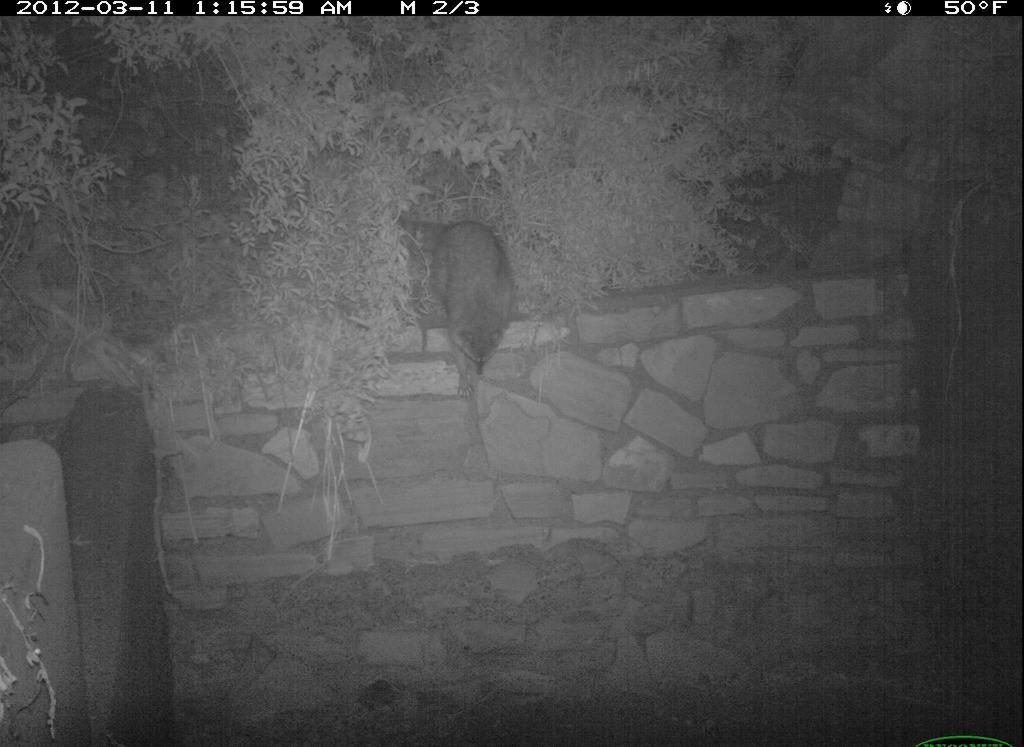raccoon: (400, 214, 520, 405)
